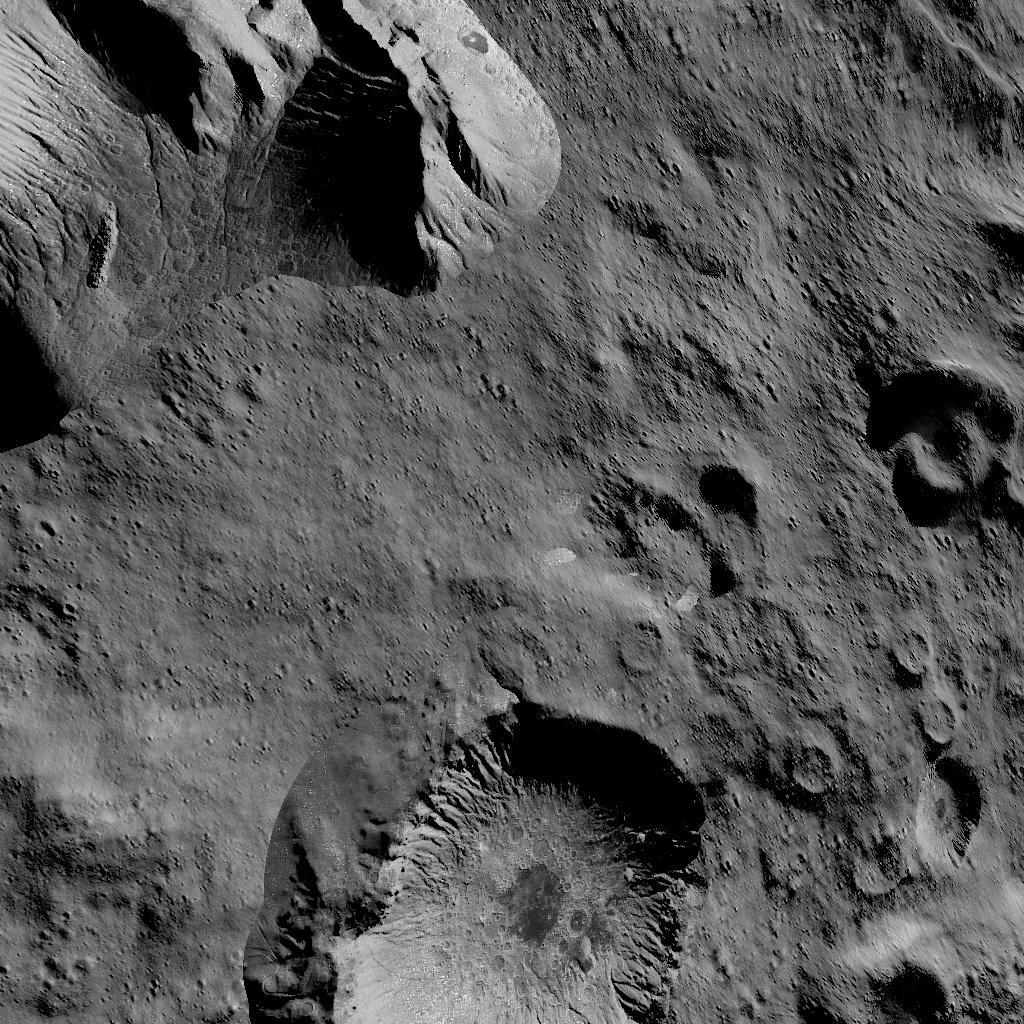Boulders: (0, 0, 562, 444)
Crater: (239, 698, 717, 1024), (873, 624, 981, 872), (859, 362, 1024, 521), (605, 460, 757, 604), (797, 928, 980, 1024), (603, 612, 664, 676), (775, 732, 836, 794)
Plan surface: (3, 454, 589, 688), (579, 0, 845, 438), (3, 696, 226, 1020)
